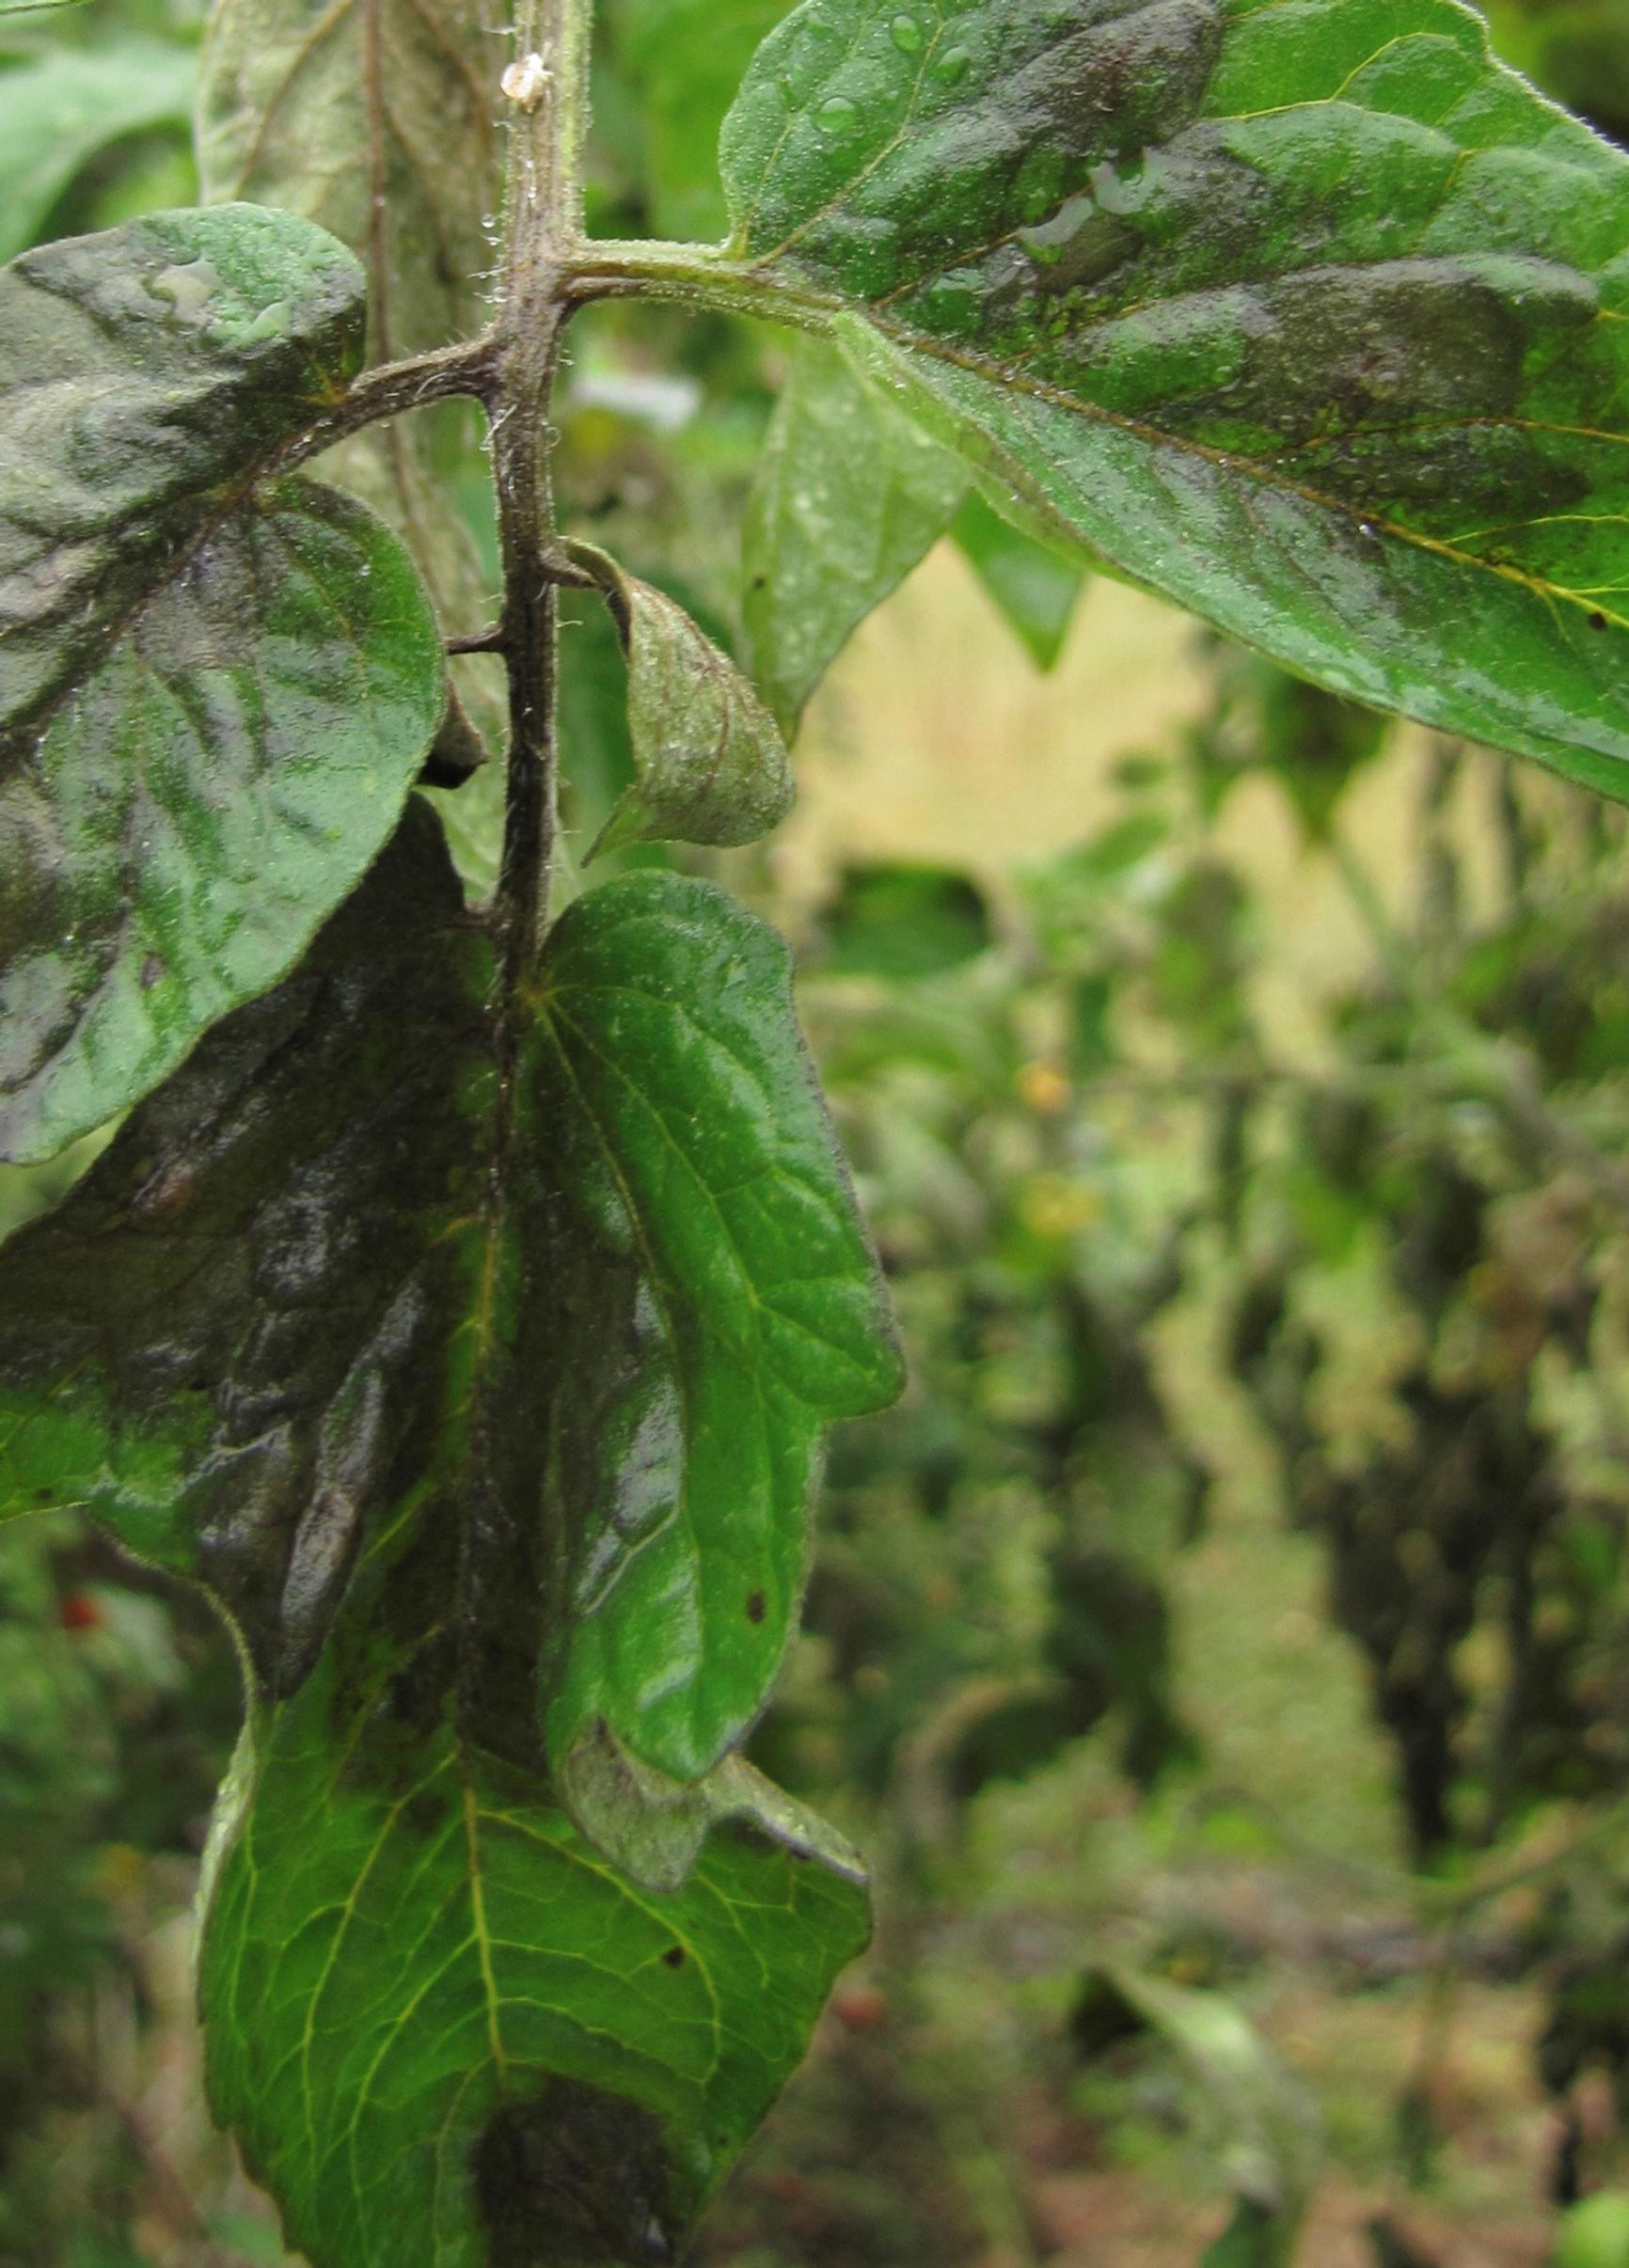Tomato leaf late blight: (4, 822, 949, 2263), (711, 0, 1629, 914), (0, 218, 477, 1532)
